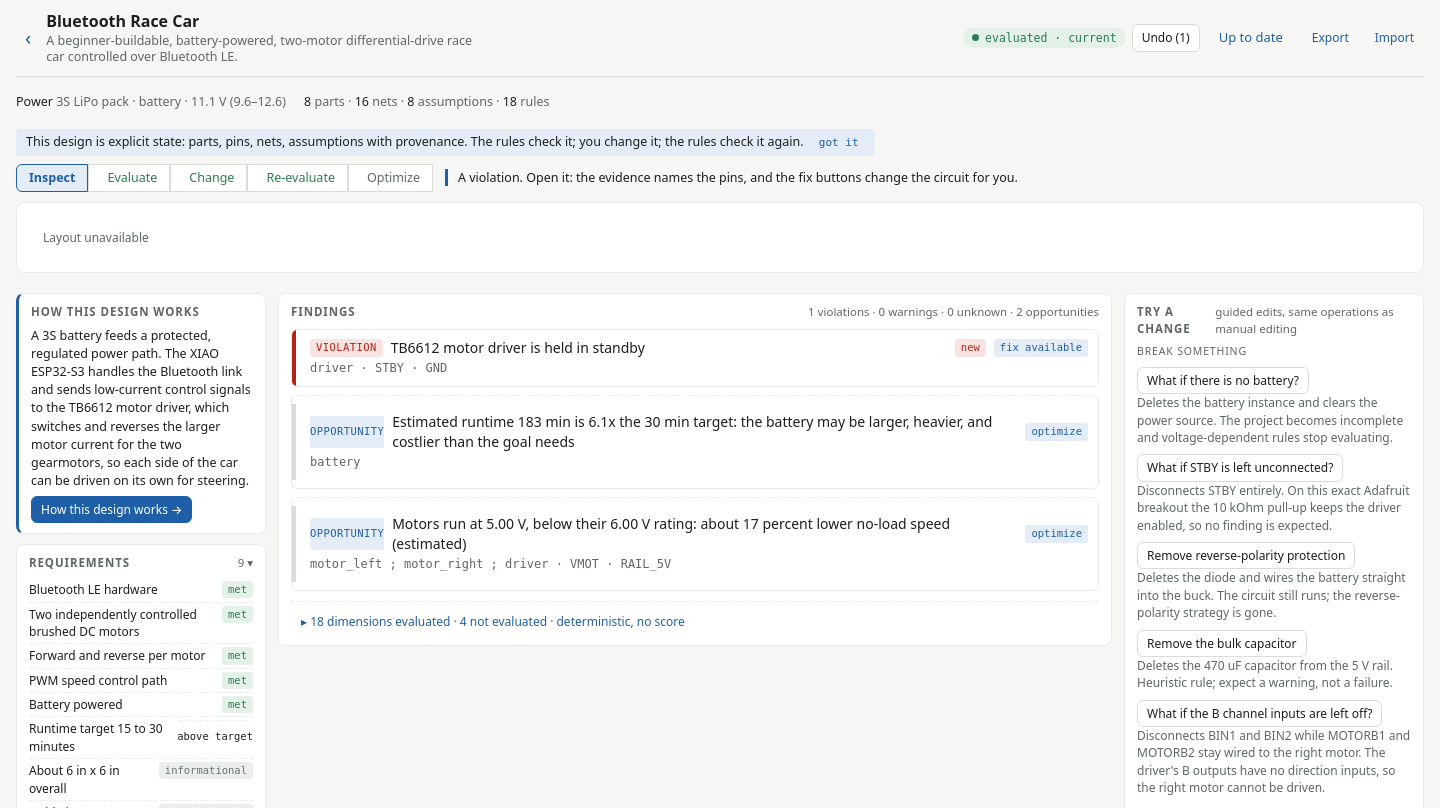
Scenario: graceful layout failure › page stays mounted with a fallback; findings, Undo, Reset, and Back still work
Check: the element with class "dia" reads "Layout unavailable", box [43,229,149,246]
Check: the header with class "appbar" is shown, box [16,10,1424,77]
Undo works: the edit count drops and the evaluation goes stale.
Click the button "Undo (1)" at (1166, 38), box [1132,24,1200,52]
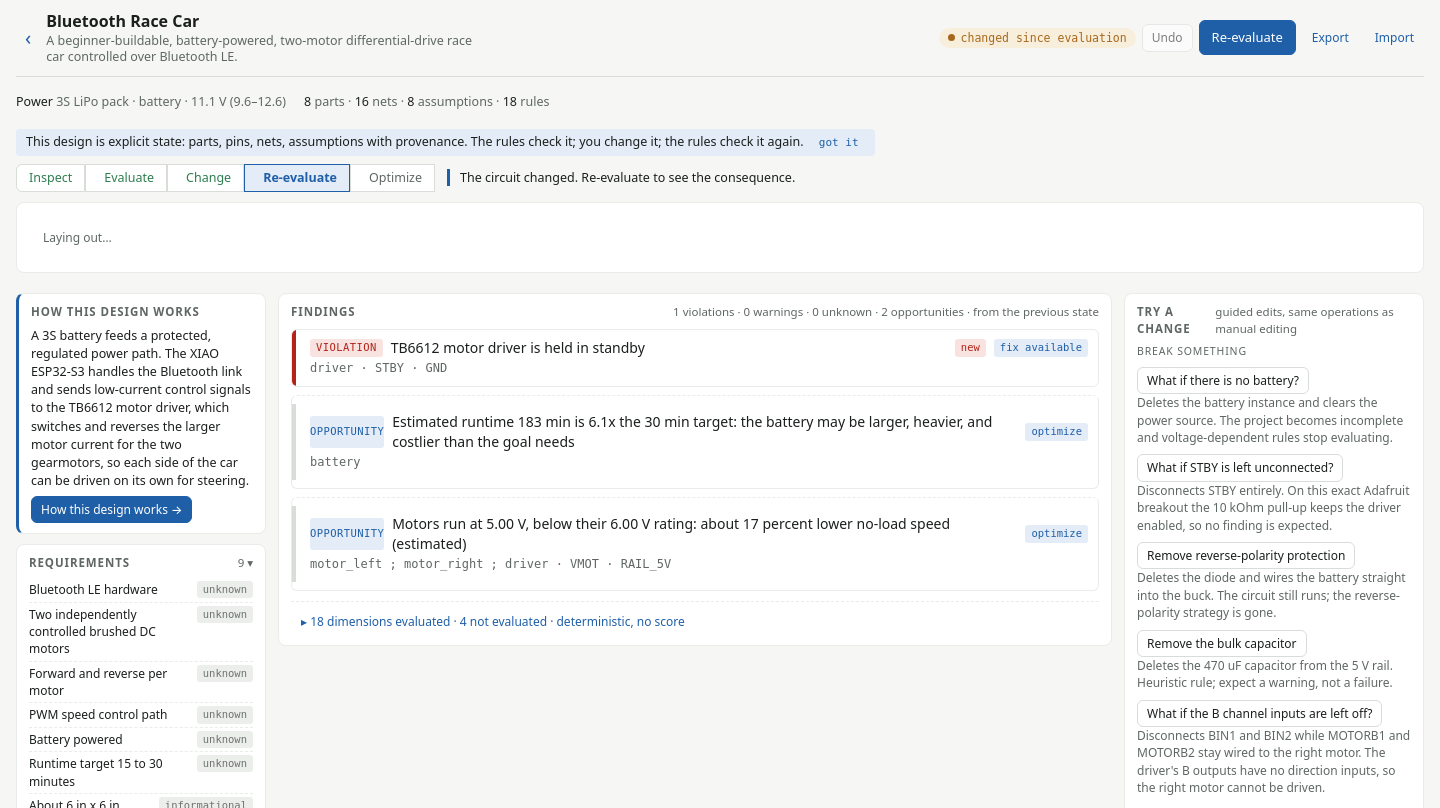
Check: the text "changed since evaluation" is shown, box [938,28,1136,48]
Check: the button "Undo" is shown, box [1142,24,1192,52]
Reset after another change works through the Changes panel.
Click the button "What if there is no battery?" at (1223, 380), box [1137,367,1309,394]
(page scrolled)
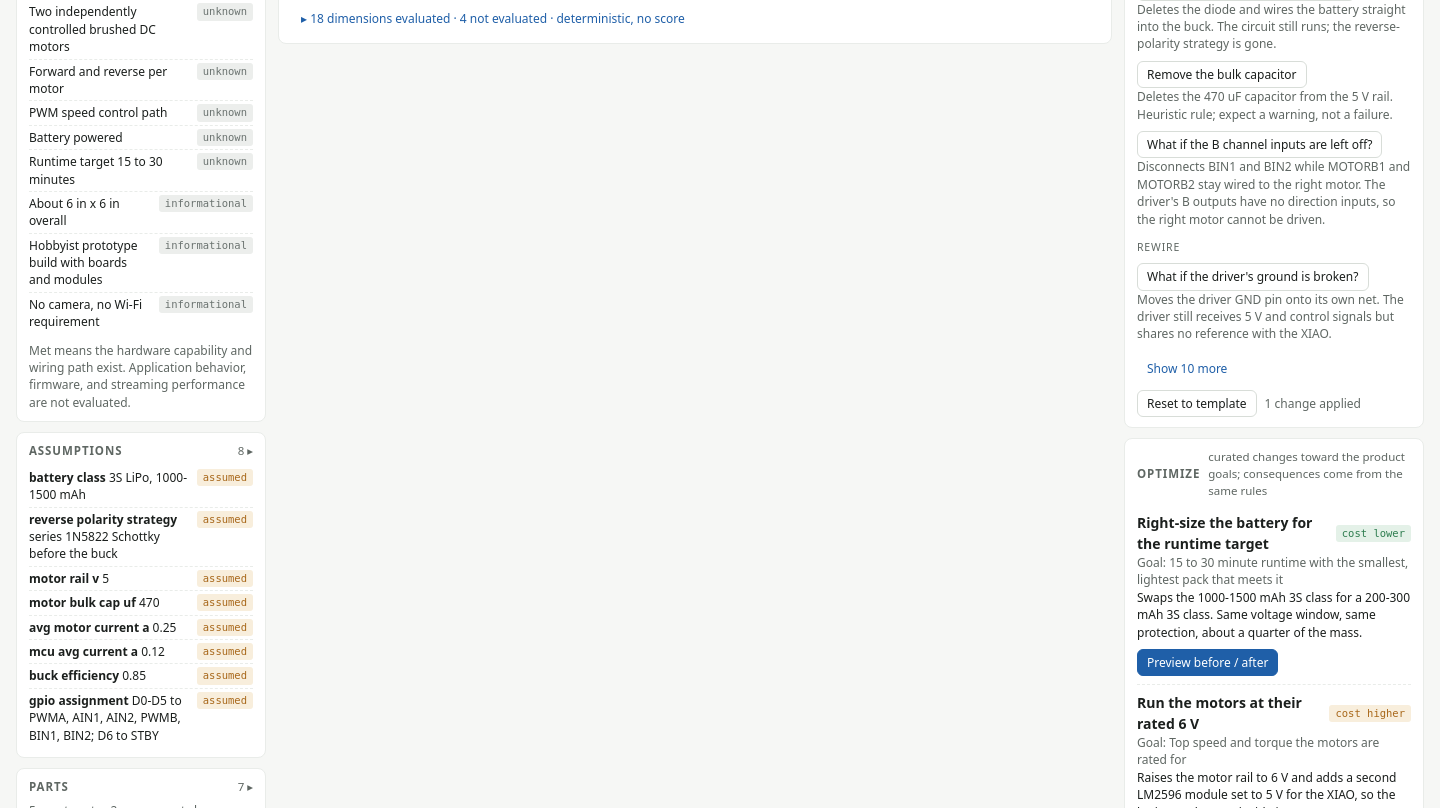
Check: the button "Reset to template" is shown
Click the button "Reset to template" at (1197, 404), box [1137,390,1257,418]
(page scrolled)
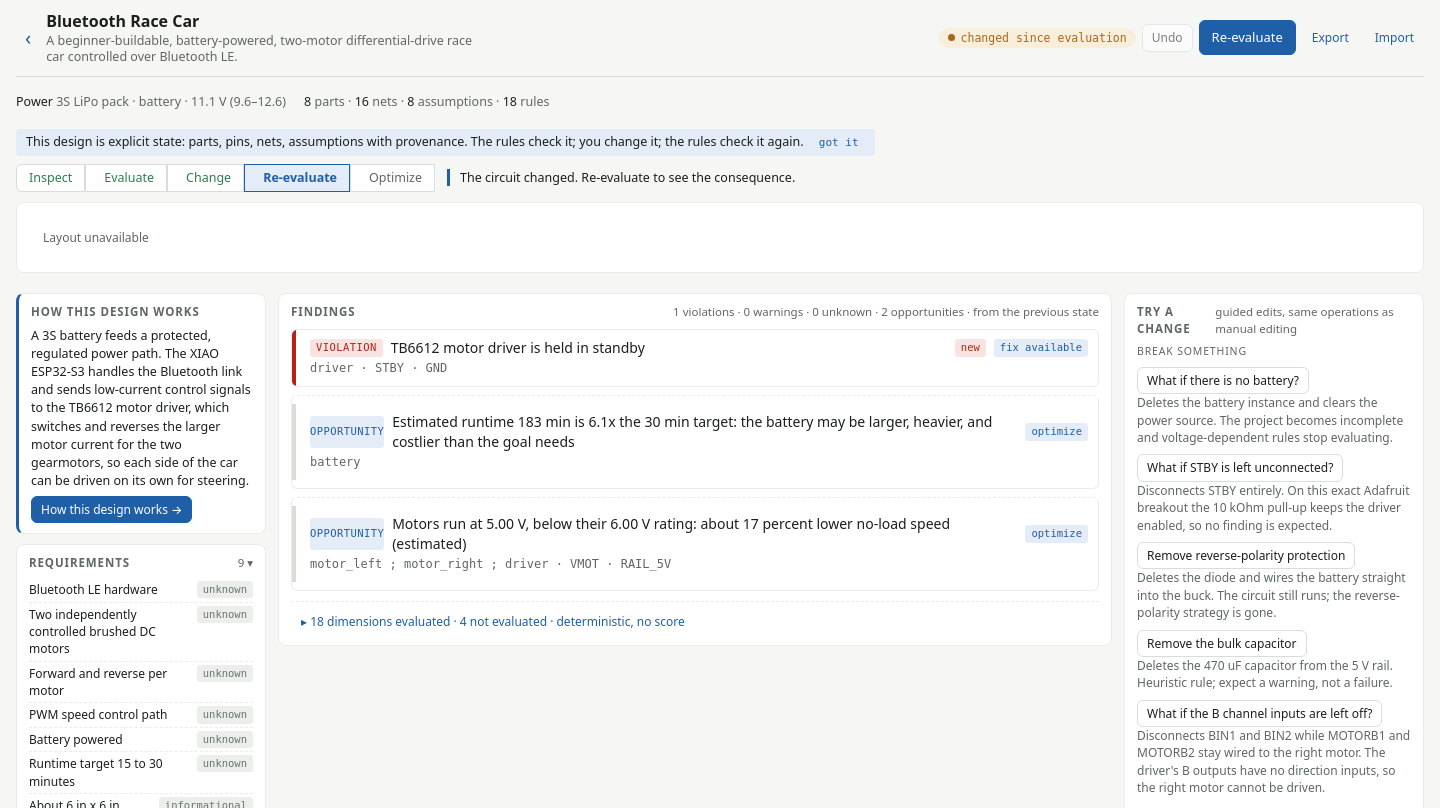
Re-evaluate still runs the rules with no diagram.
Click the button "Re-evaluate" at (1247, 38), box [1198,20,1296,55]
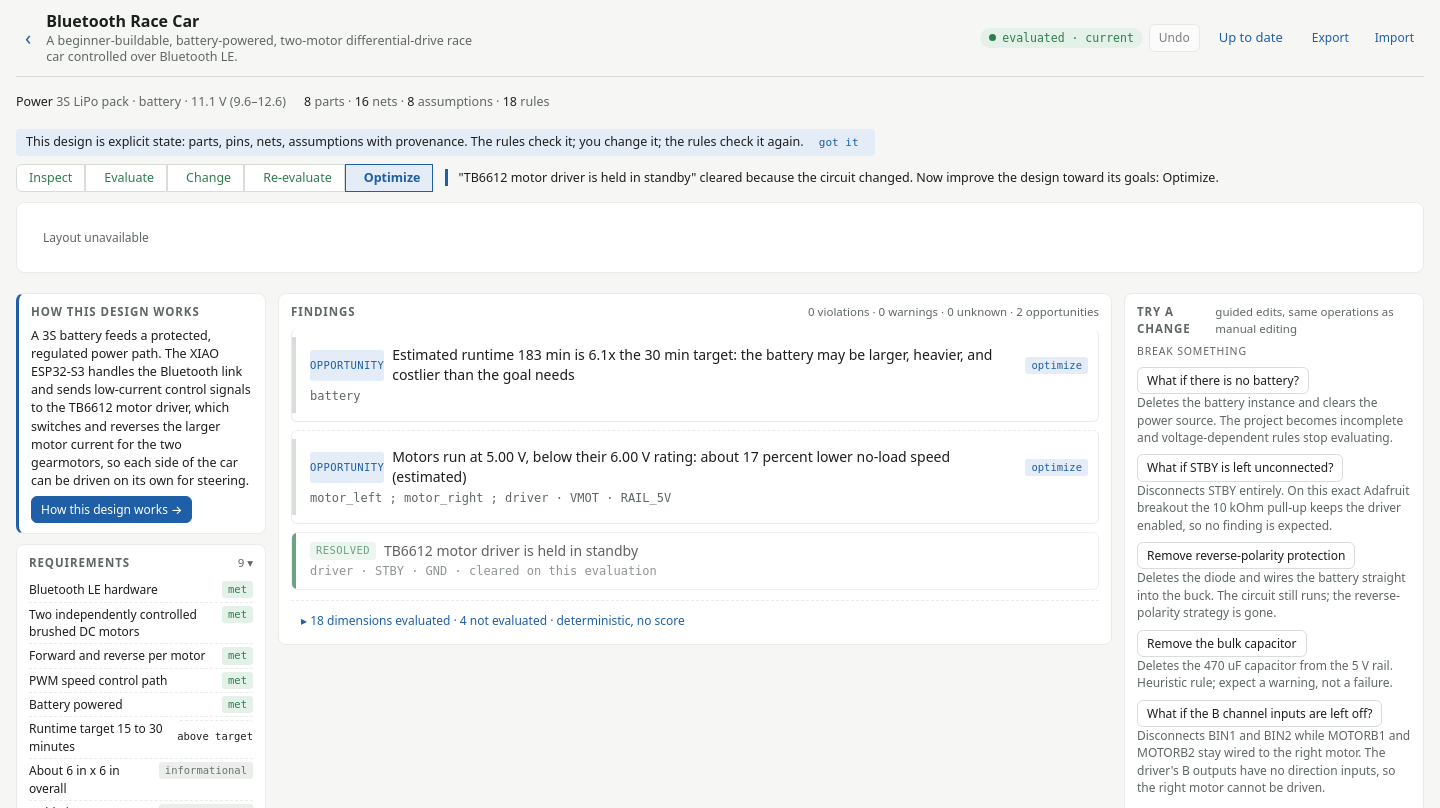
Check: the element with class "dia" reads "Layout unavailable", box [43,229,149,246]
Check: the text "evaluated · current" is shown, box [980,28,1143,48]
Navigation back to the library works.
Click the button "‹" at (28, 38), box [16,27,40,49]
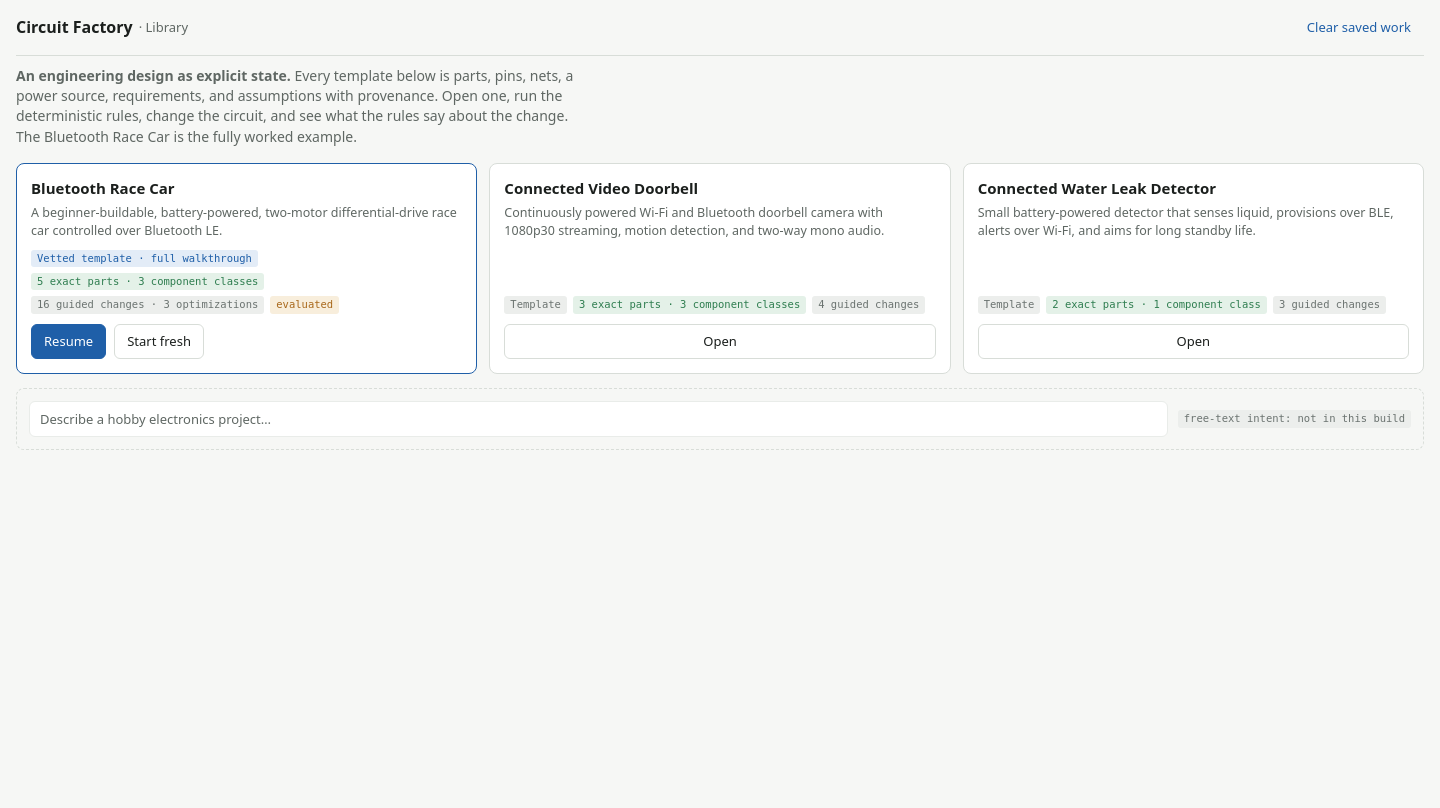
Check: the element with class "cards" is shown, box [16,163,1424,374]
